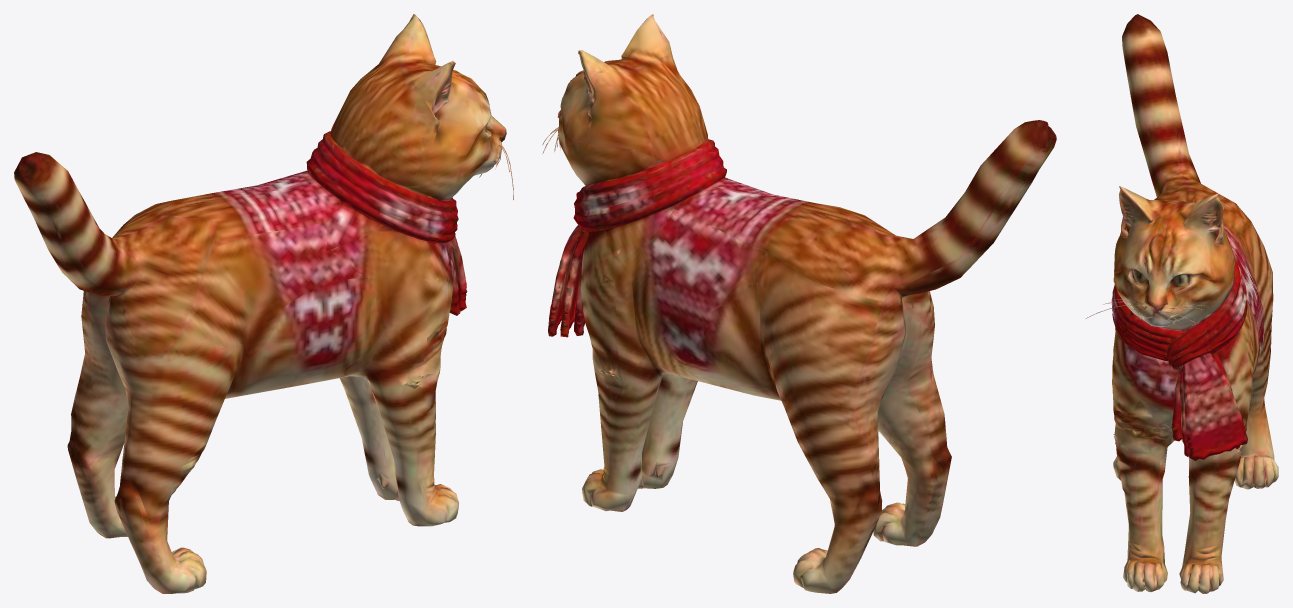
File: STREETBOB-lo.glb
The picture shows the model from 3 angles, left to right: view 1: azimuth 30°, elevation 25°; view 2: azimuth 150°, elevation 25°; view 3: azimuth 270°, elevation 25°; orthographic projection. The views are drawn at different scales.
Visible parts, largest first — view 1: fit; view 2: fit; view 3: fit.
Boxes of the visible parts, x1,y1,x2,y2 form: fit: (14,14,513,593); fit: (542,14,1056,593); fit: (1086,14,1278,593).
Size of the model in its own units: 1.11 by 0.9984 by 0.4351.
Materials: 1 (1 with a texture image).
